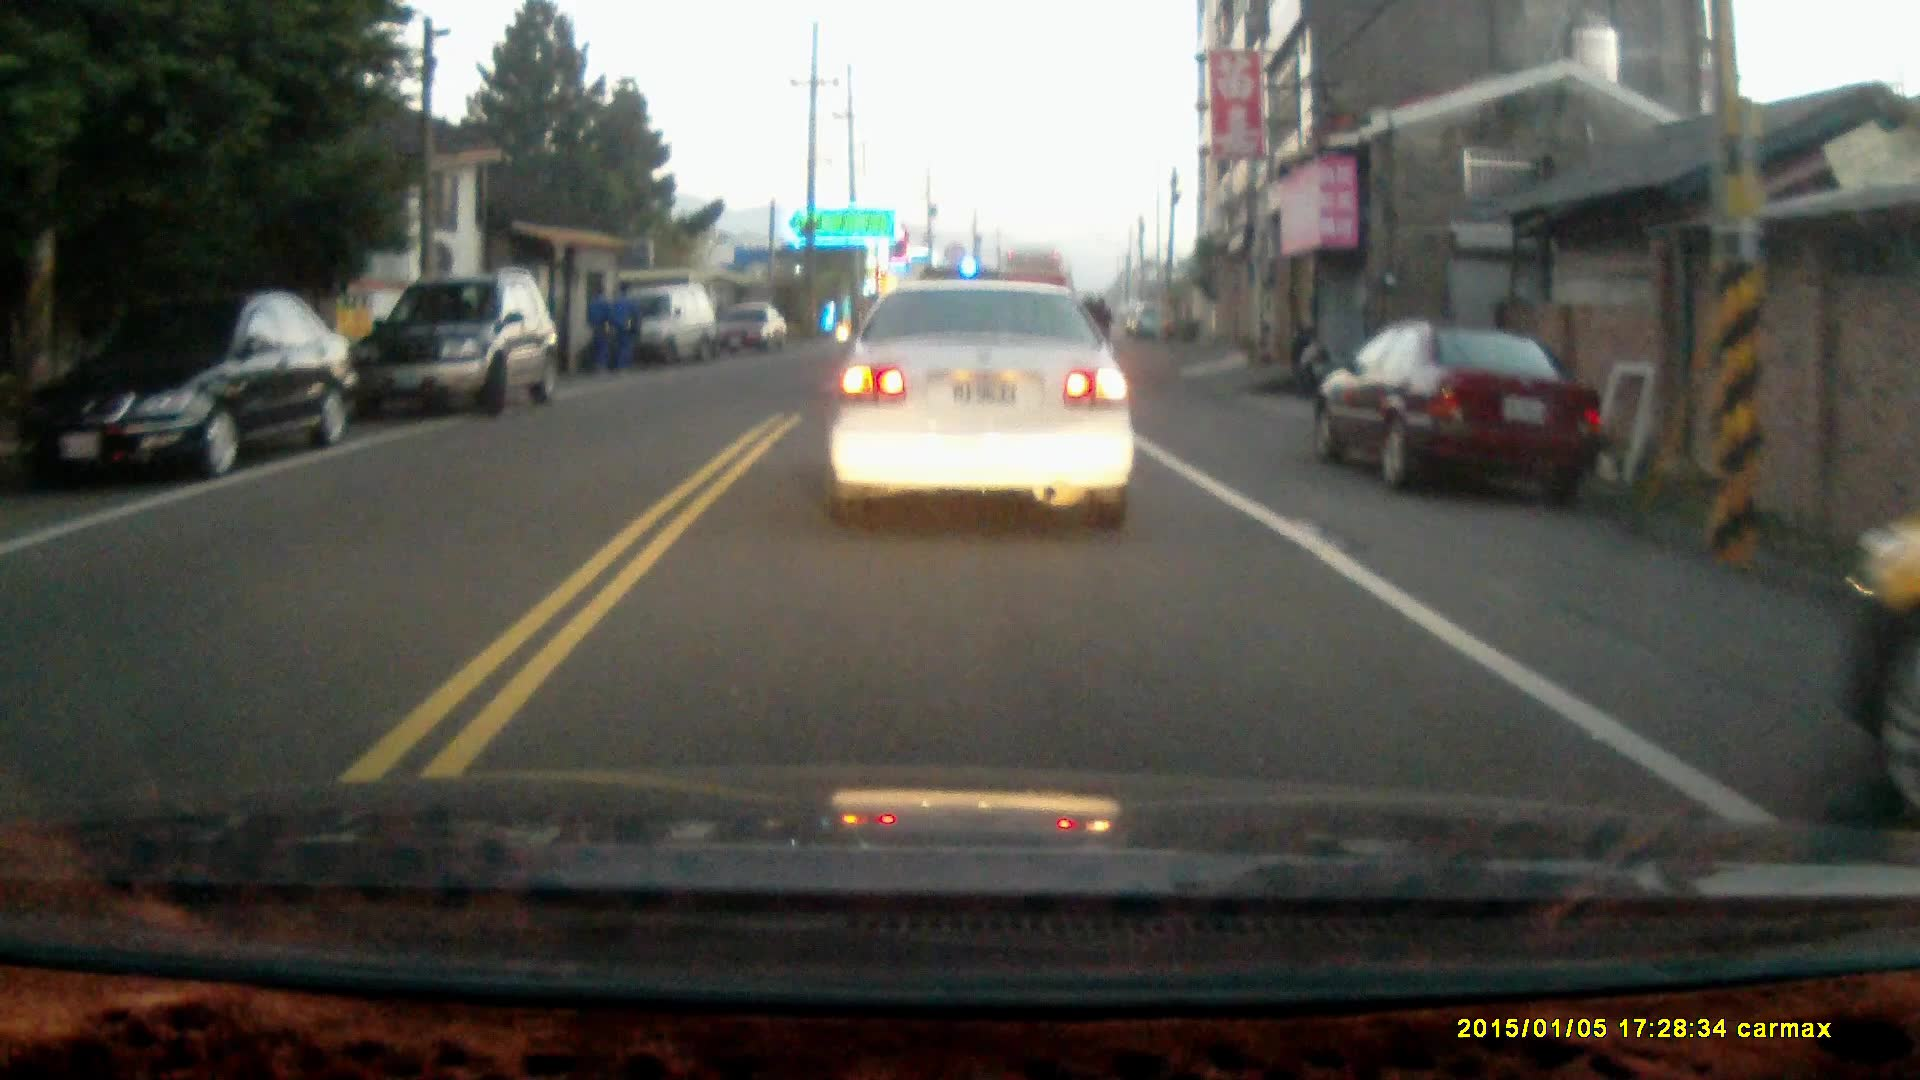pedestrian: (608, 274, 638, 371), (581, 282, 612, 376)
vehicle: (827, 275, 1137, 528), (25, 292, 351, 478), (1316, 317, 1608, 501), (347, 268, 563, 415), (1829, 517, 1920, 862), (613, 284, 730, 366), (705, 305, 790, 359)
